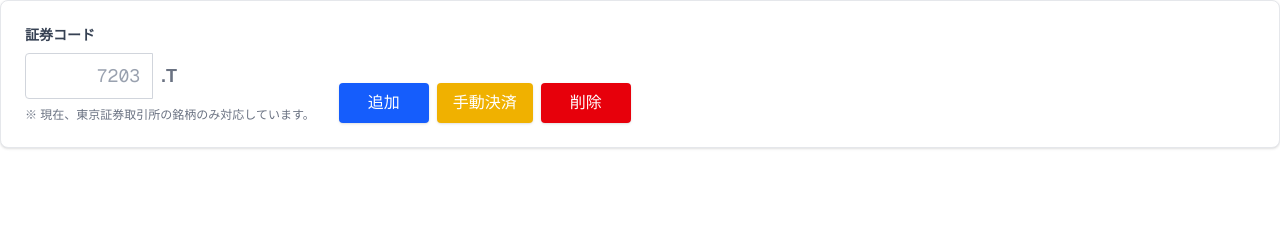
StockInputForm - バリデーション › 英字入力で追加ボタンを押すと数字入力要求エラーが表示されること
This screenshot has width=1280, height=226.
Step 1. Type "AAPL" into the field with placeholder "7203" → [89, 76], box x1=25 y1=53 x2=153 y2=99
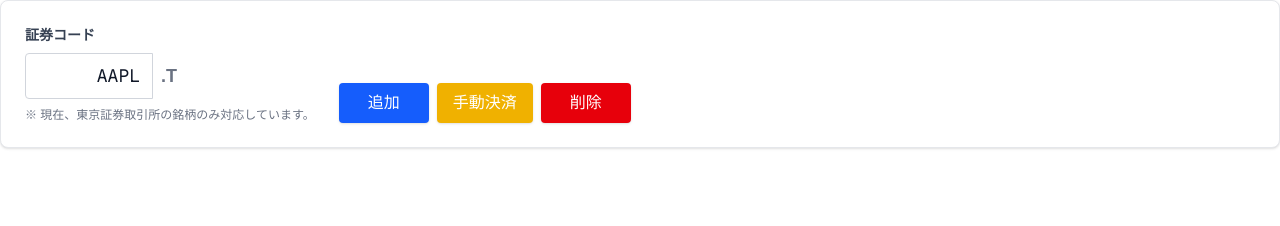
Step 2. Click the button "追加" → [384, 103], box x1=339 y1=83 x2=429 y2=123
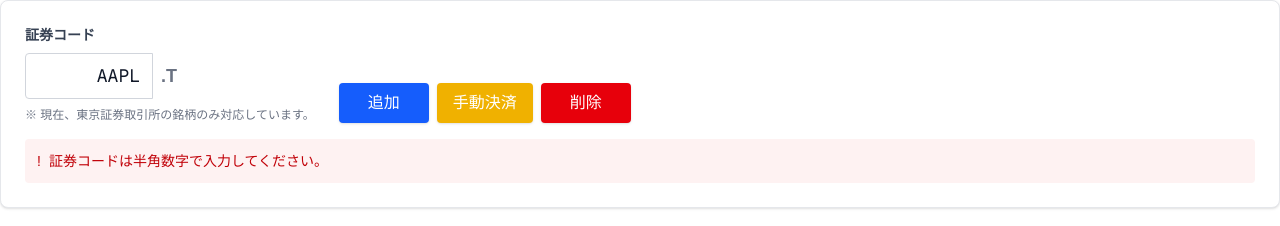
Expected: the text "証券コードは半角数字で入力してください。" is shown, x1=49 y1=153 x2=328 y2=169
